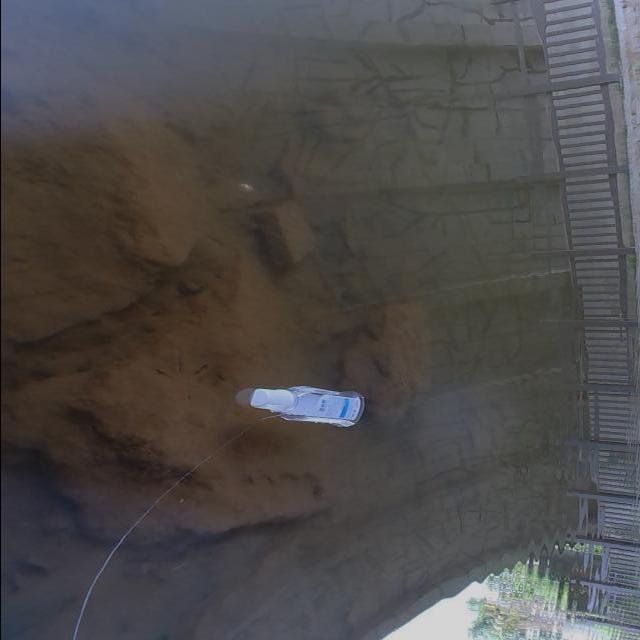bottle: (222, 369, 401, 448)
